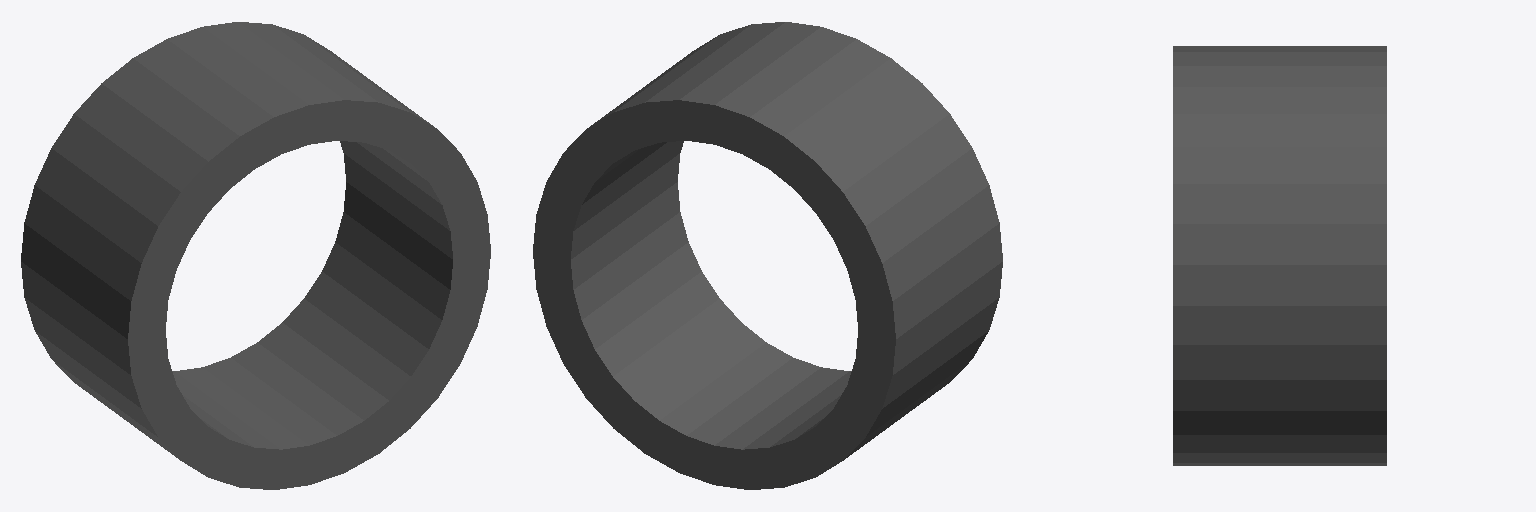
Rendered from scotch_duct_tape.obj.
3 views of the same model, side by side, from view 1: azimuth 30°, elevation 25°; view 2: azimuth 150°, elevation 25°; view 3: azimuth 270°, elevation 25° (orthographic).
Bounding box in the file's own units: 0.096 × 0.096 × 0.049.